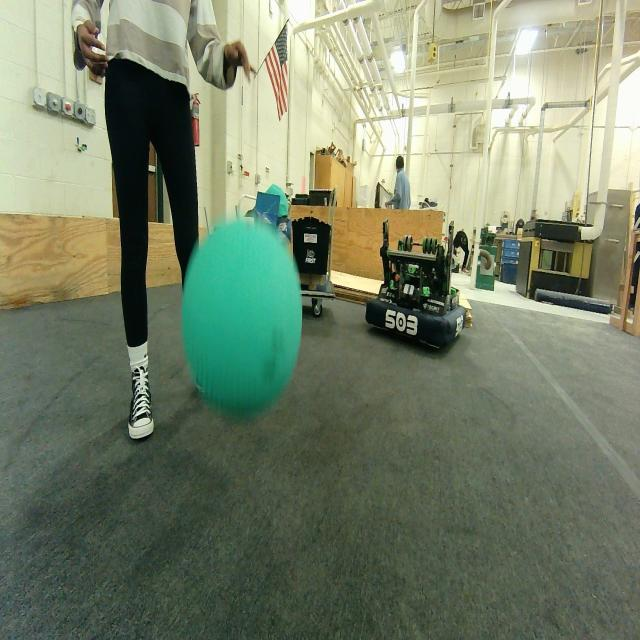algae: (182, 214, 303, 418)
